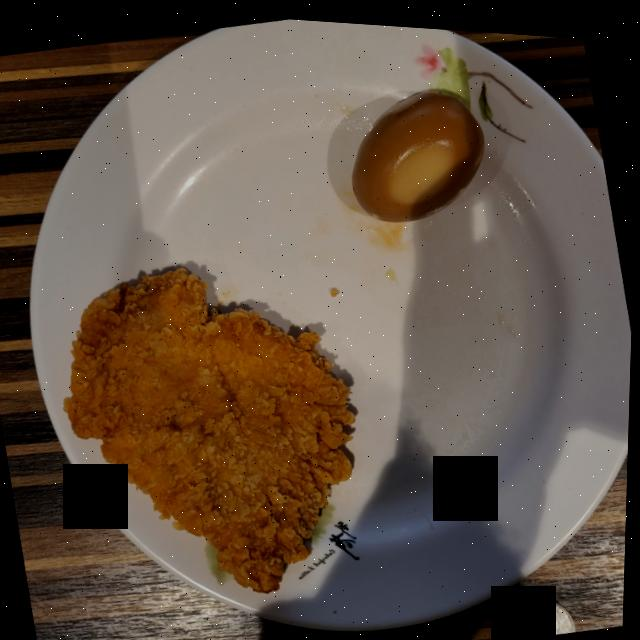coin: (518, 590, 579, 632)
fried chicken cutlet: (67, 265, 357, 589)
soy egg: (353, 85, 485, 217)
